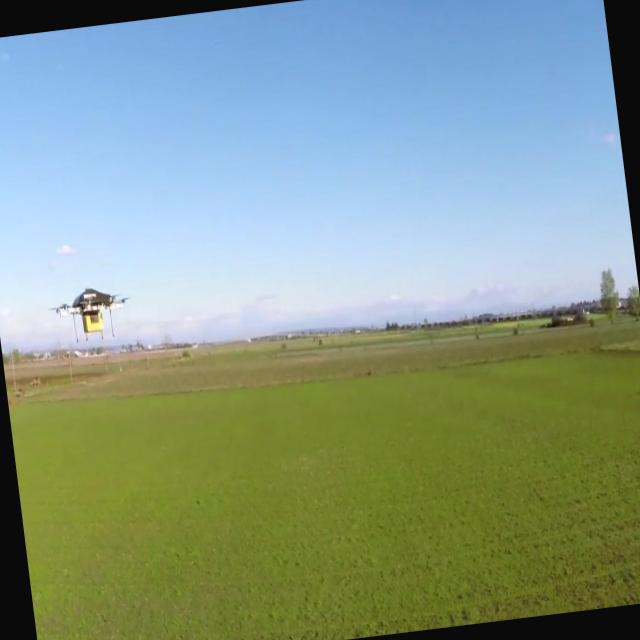drone: (46, 282, 132, 348)
